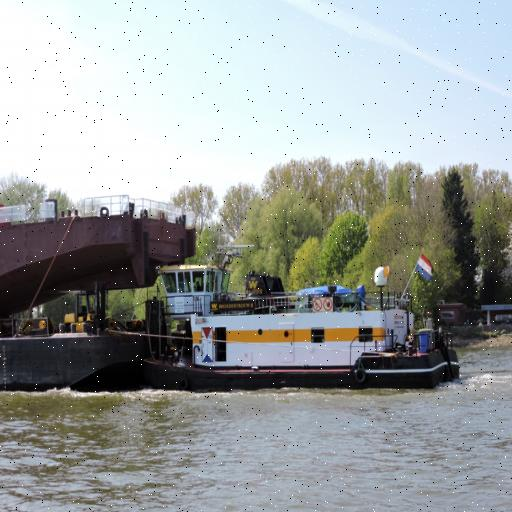tugboat: (141, 253, 465, 400)
